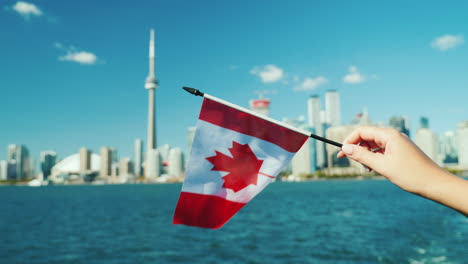Canada flag: (170, 93, 312, 232)
